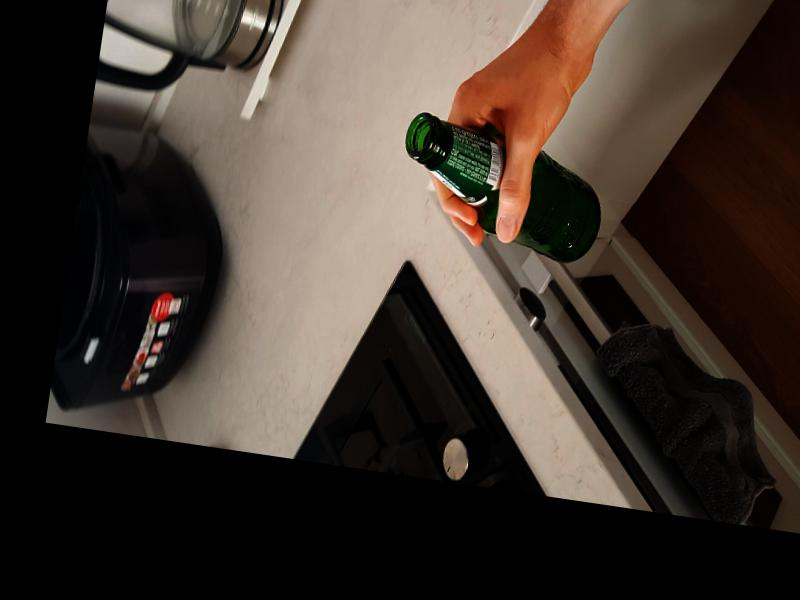Beer: (392, 110, 614, 267)
